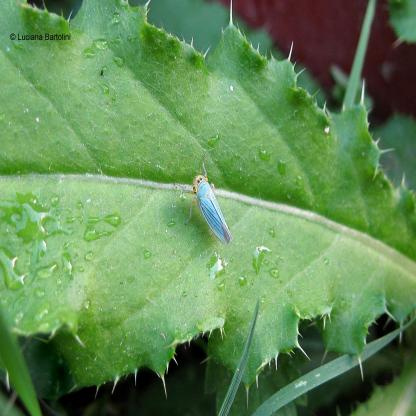Green-Leafhopper: (182, 164, 233, 247)
